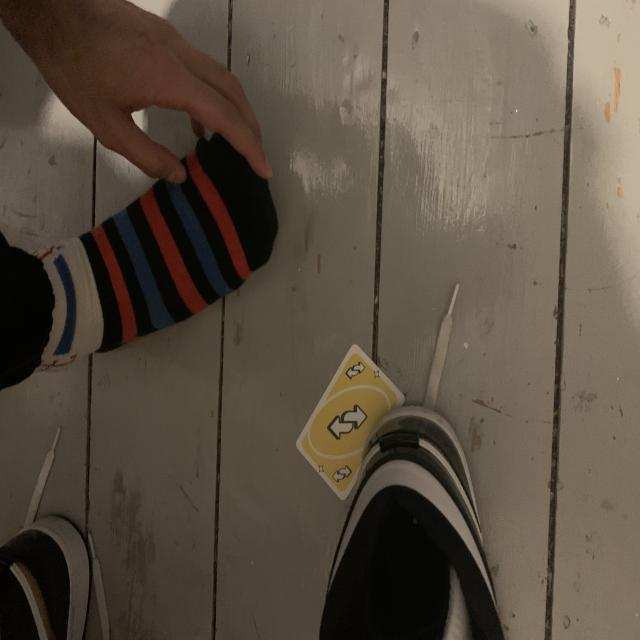lyellowrevers-20: (344, 358, 369, 382)
